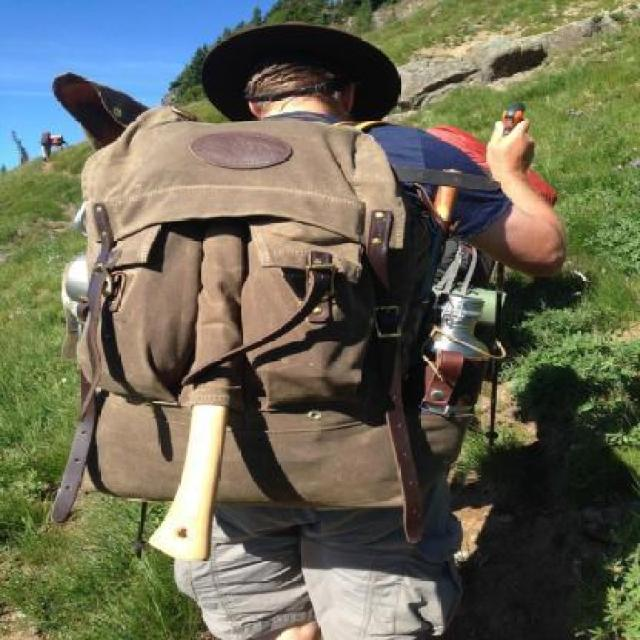backpack: (49, 102, 431, 563)
